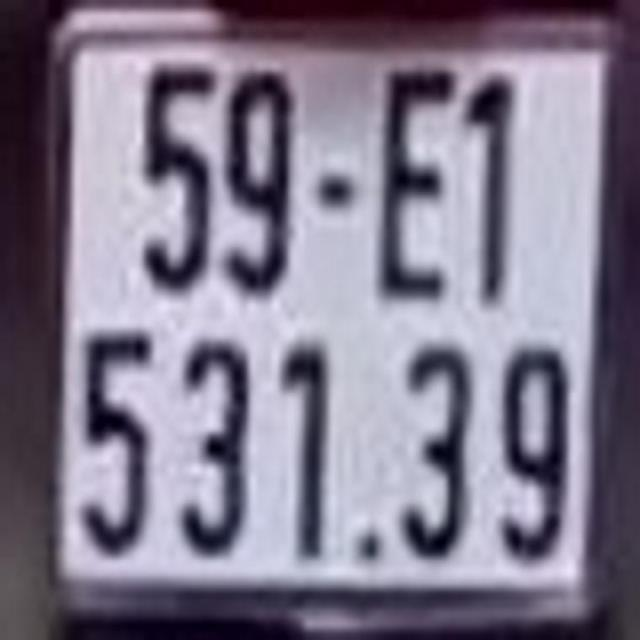1: (278, 340, 325, 559), (467, 69, 509, 306)
3: (184, 338, 251, 557), (408, 339, 468, 556)
5: (81, 328, 153, 555), (145, 62, 215, 286)
9: (227, 71, 289, 289), (503, 343, 564, 556)
E: (384, 64, 444, 295)
